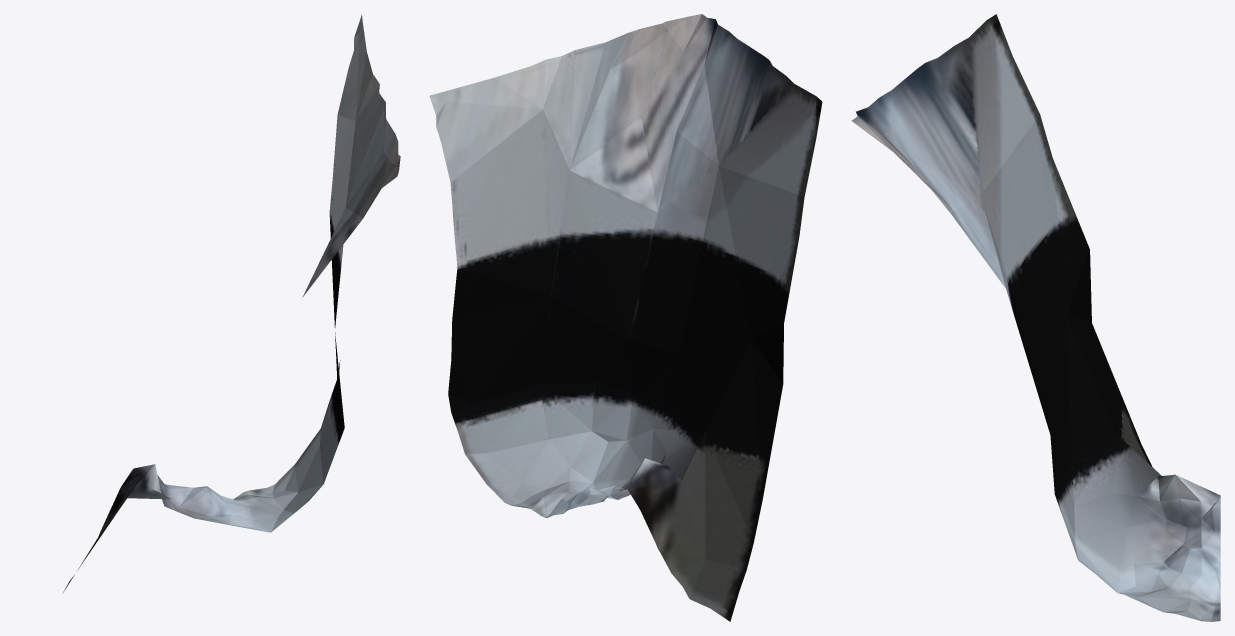
The picture shows the model from 3 angles, left to right: view 1: azimuth 30°, elevation 25°; view 2: azimuth 150°, elevation 25°; view 3: azimuth 270°, elevation 25°; orthographic projection. The views are drawn at different scales.
Size of the model in its own units: 1.62 by 2.34 by 1.42.
1 material, 1 textured.
